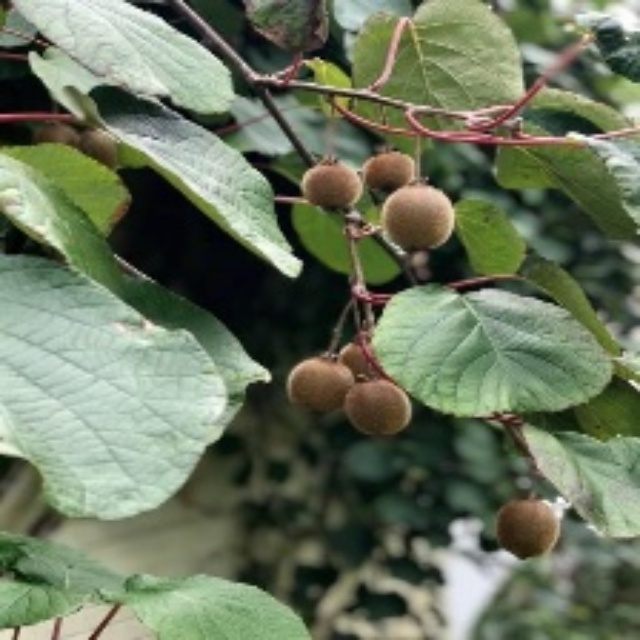kiwi: (291, 341, 418, 451), (368, 151, 457, 252), (491, 490, 567, 574), (299, 157, 377, 218)
